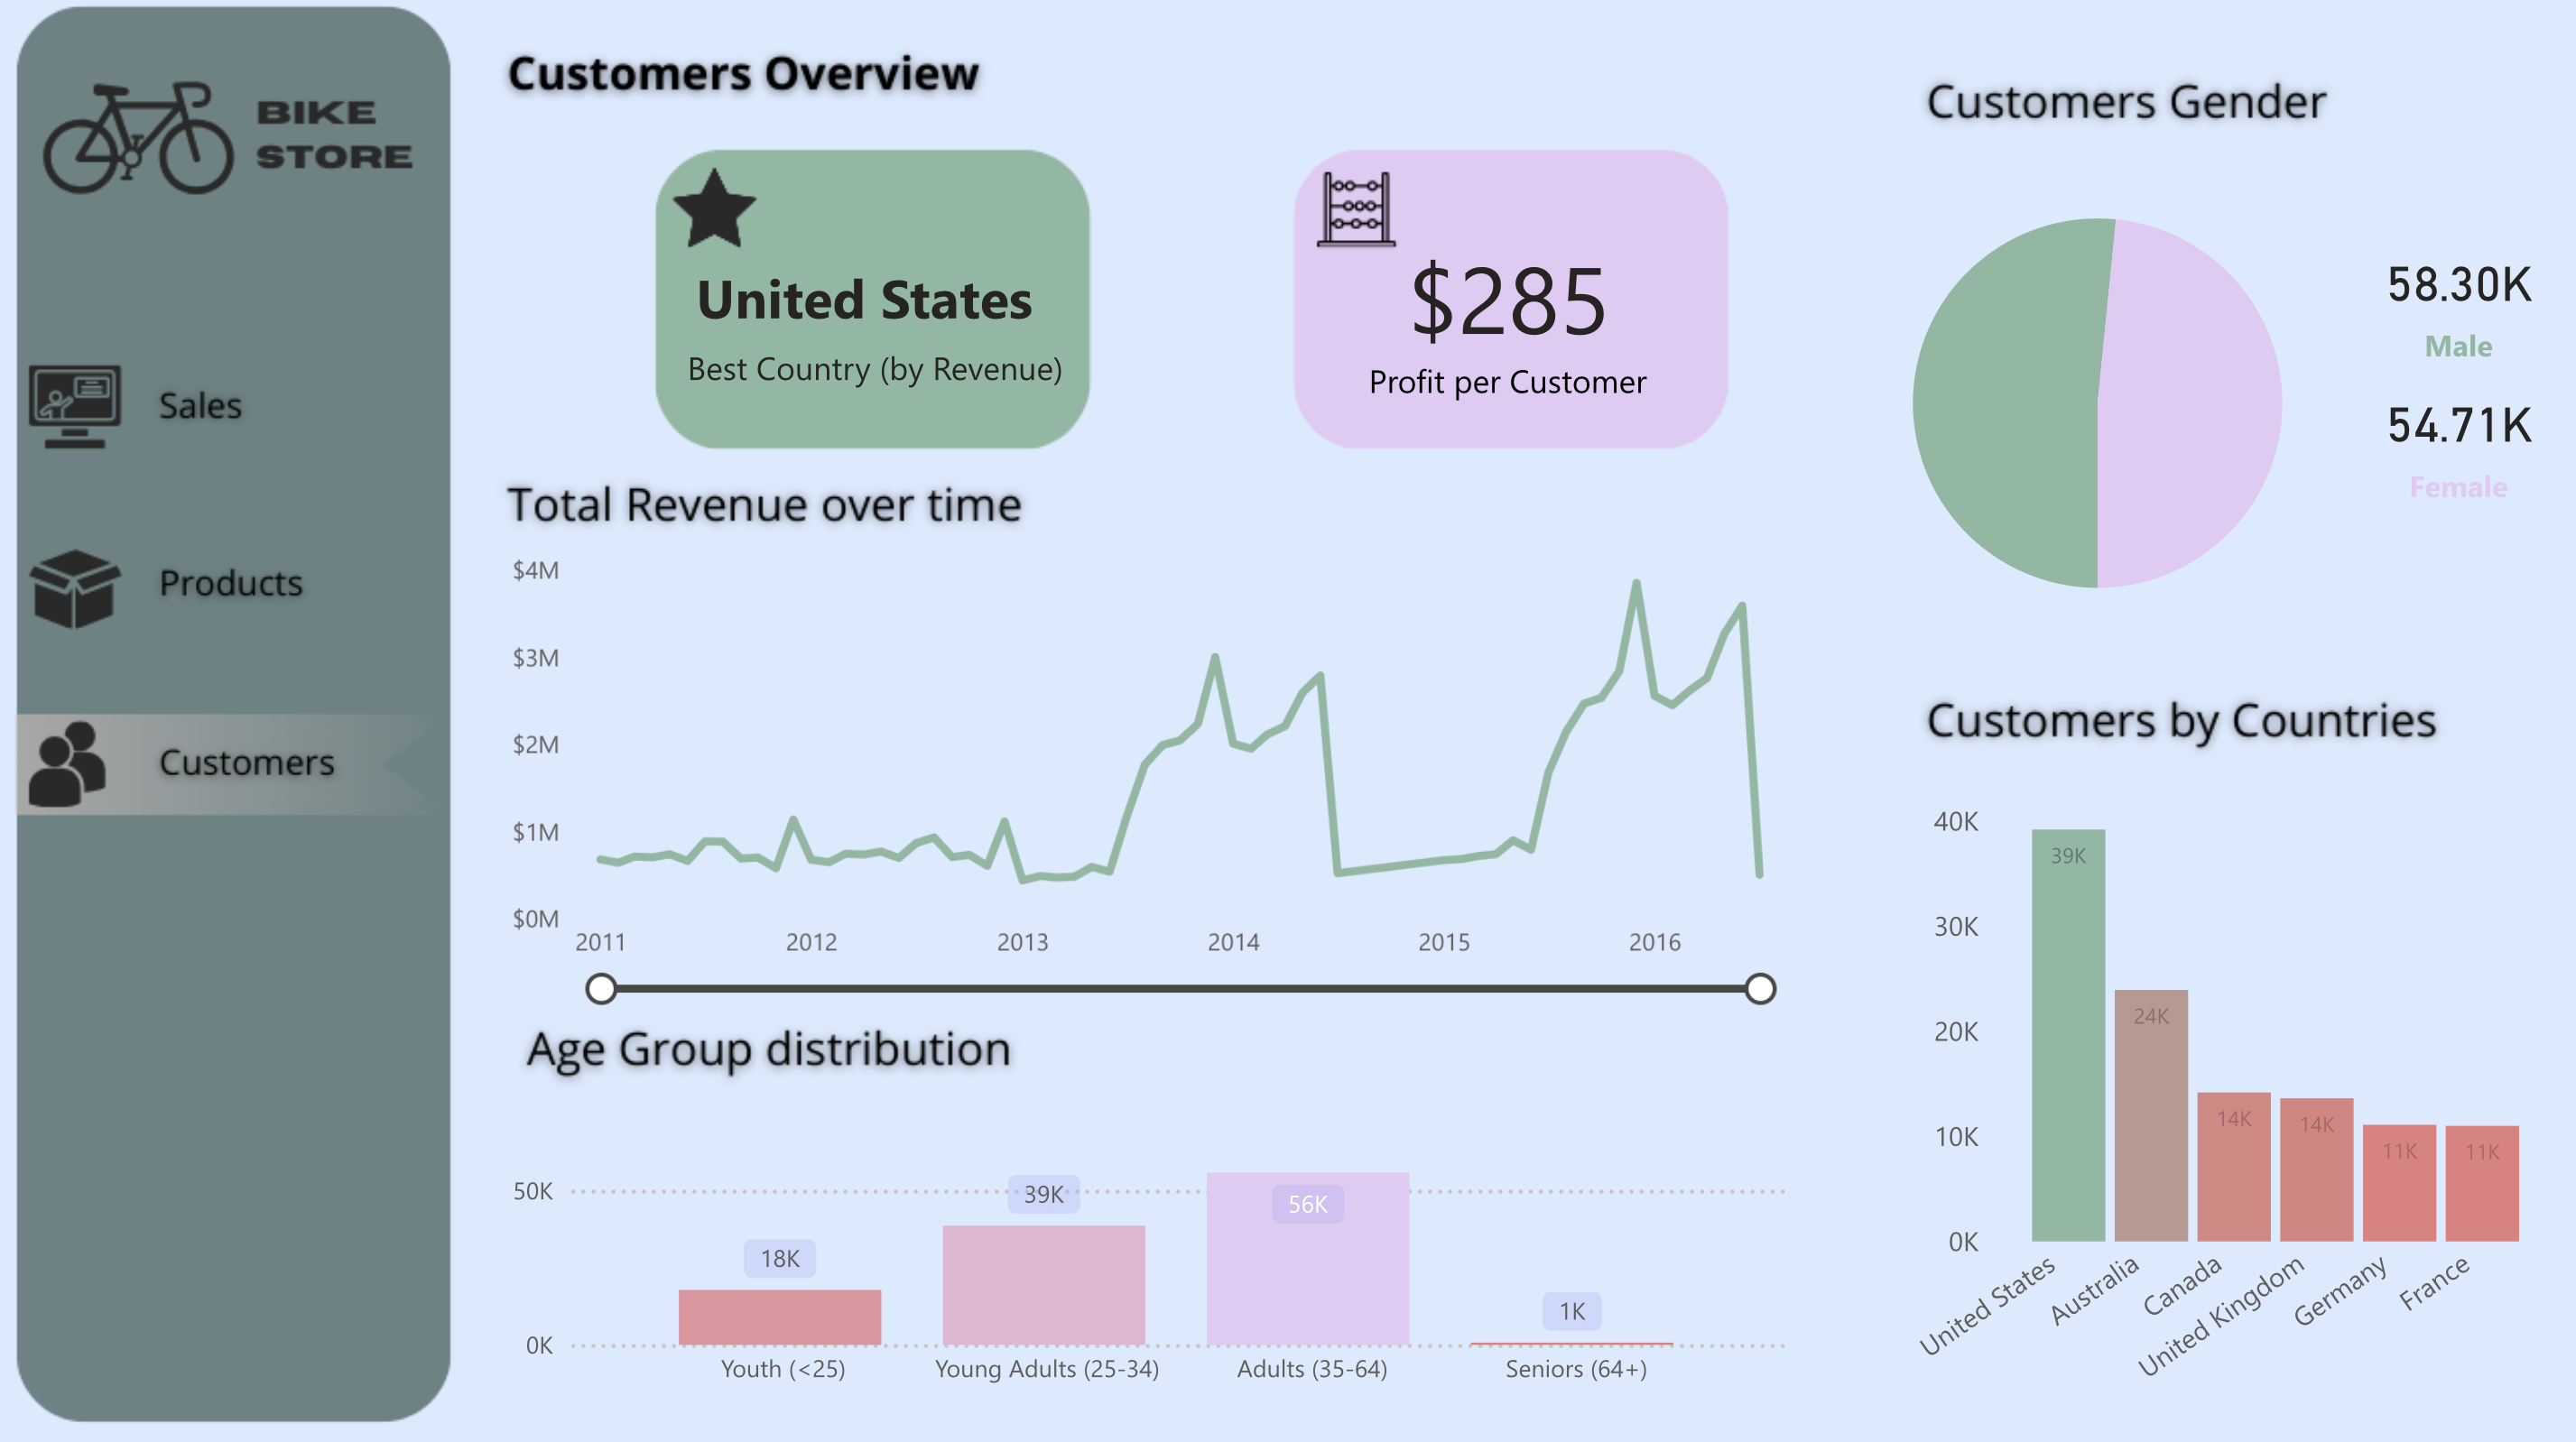

What the dashboard file says about the page in this screenshot:
{"tool":"powerbi","page":{"name":"Customer Overview","canvas":[1280,720],"ordinal":3},"visuals":[{"type":"actionButton","box":[10,270,212,51],"z":0},{"type":"actionButton","box":[10.7,179.6,211.6,50.7],"z":1000},{"type":"actionButton","box":[10,29,212,79],"z":2000},{"type":"pieChart","fields":{"Category":["FactSales.Customer_Gender"],"Y":["CountNonNull(FactSales.Customer_Gender)"]},"box":[921.8,68.4,239.1,267.6],"z":3000},{"type":"card","fields":{"Values":["CountNonNull(FactSales.Customer_Gender)"]},"box":[1160.9,116.4,119.1,70.2],"z":4000},{"type":"card","fields":{"Values":["CountNonNull(FactSales.Customer_Gender)"]},"box":[1160.9,186.7,119.1,70.2],"z":5000},{"type":"clusteredColumnChart","fields":{"Category":["FactSales.Country"],"Y":["CountNonNull(FactSales.Country)"]},"box":[942,379,330,332],"z":6000},{"type":"lineChart","fields":{"Category":["DimDate.Date.Variation.Date Hierarchy.Year","DimDate.Date.Variation.Date Hierarchy.Quarter","DimDate.Date.Variation.Date Hierarchy.Month","DimDate.Date.Variation.Date Hierarchy.Day"],"Y":["_Measures.Total Sales Revenue"]},"box":[250,270,642,233],"z":7000},{"type":"columnChart","fields":{"Category":["FactSales.Age_Group"],"Y":["CountNonNull(FactSales.Age_Group)"]},"box":[249.6,549,642.5,150.2],"z":8000},{"type":"tableEx","fields":{"Values":["FactSales.Country"]},"box":[335,105,200,79],"z":9000},{"type":"textbox","box":[331,168,207,35],"z":10000},{"type":"card","fields":{"Values":["_Measures.Revenue by Customer"]},"box":[640,100,217,117],"z":11000}]}

Visuals, with their boxes on the page's 1280x720 design canvas (x1, y1, x2, y2). These are canvas units, not pixel positions in the 2576x1442 screenshot, which may show the page scaled, cropped or inside an application window:
actionButton: <box>10,270,222,321</box>
actionButton: <box>11,180,222,230</box>
actionButton: <box>10,29,222,108</box>
pieChart - FactSales.Customer_Gender x CountNonNull(FactSales.Customer_Gender): <box>922,68,1161,336</box>
card - CountNonNull(FactSales.Customer_Gender): <box>1161,116,1280,187</box>
card - CountNonNull(FactSales.Customer_Gender): <box>1161,187,1280,257</box>
clusteredColumnChart - FactSales.Country x CountNonNull(FactSales.Country): <box>942,379,1272,711</box>
lineChart - DimDate.Date.Variation.Date Hierarchy.Year x DimDate.Date.Variation.Date Hierarchy.Quarter: <box>250,270,892,503</box>
columnChart - FactSales.Age_Group x CountNonNull(FactSales.Age_Group): <box>250,549,892,699</box>
tableEx - FactSales.Country: <box>335,105,535,184</box>
textbox: <box>331,168,538,203</box>
card - _Measures.Revenue by Customer: <box>640,100,857,217</box>
